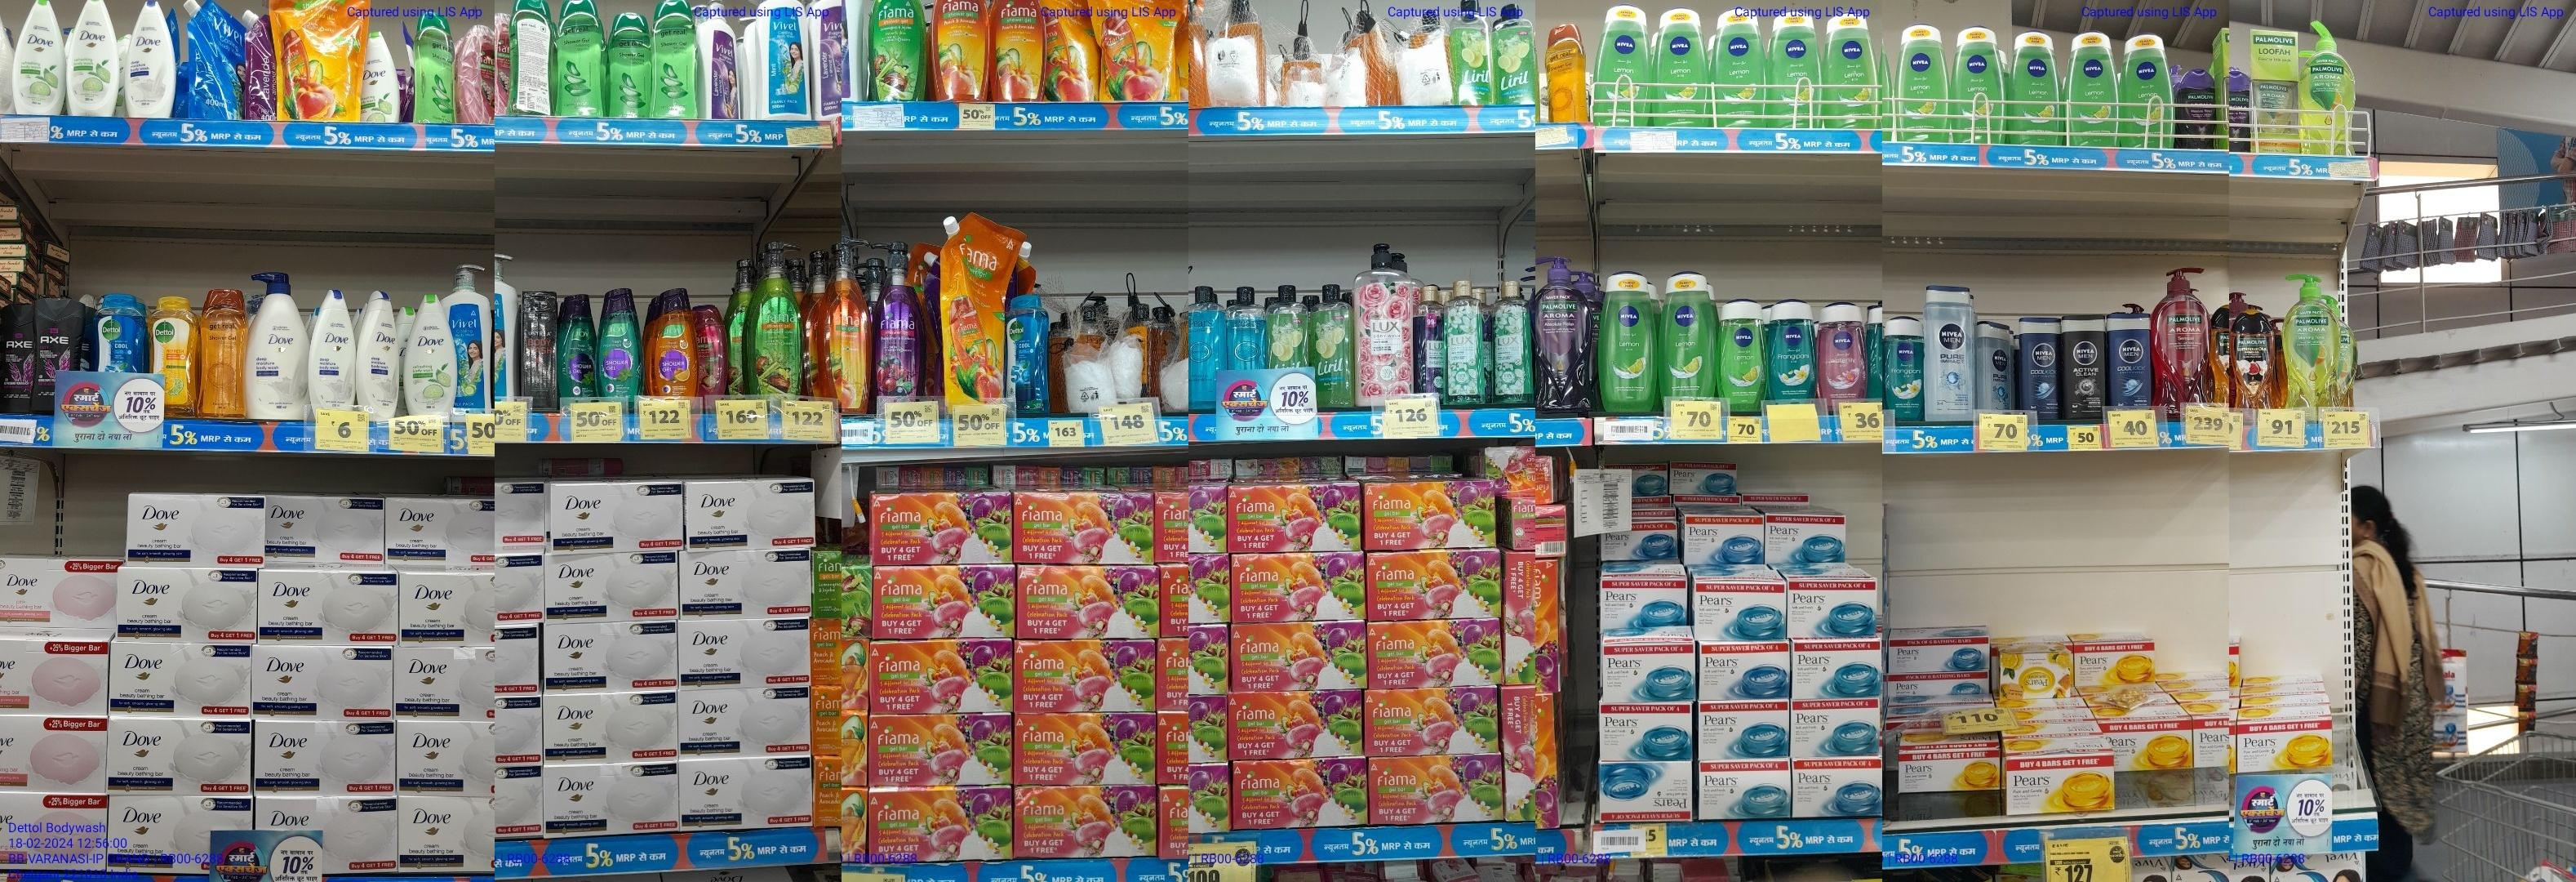Dettol_Bodywash_Cool: (1005, 294, 1050, 412), (92, 287, 146, 373)
Dettol_Bodywash_Refresh: (148, 294, 197, 383)
Dove_Deep_Moisture_Body_Wash_250ML: (126, 0, 176, 115), (309, 284, 353, 404), (358, 289, 398, 409)
Dove_Refreshing_Body_Wash_250ML: (404, 294, 458, 411), (15, 0, 66, 118), (67, 0, 117, 115), (365, 31, 401, 123)
Get_Real_Shower_Gel_Moisturising_Glycerin_300ML: (202, 283, 245, 417), (1546, 26, 1587, 123)
Joy_Shower_Gel_Mandarin_and_Lemongrass_250ML: (652, 286, 700, 396)
Joy_Shower_Gel_Mint_and_Eucalyptus_250ML: (598, 286, 642, 397), (559, 296, 595, 399)
Liril_Lime_and_Tea_Tree_Oil_Body_Wash_250ML: (1318, 283, 1357, 411), (1449, 0, 1495, 107), (1498, 7, 1536, 103), (1265, 286, 1308, 366)
Lux_Body_Wash_Skin_Detox_Freesia_Scent_and_Alove_Vera_245ML: (1444, 281, 1487, 406), (1492, 283, 1533, 406)
Nivea_Shower_Gel_Frangipani_and_Oil_250ML: (1769, 299, 1814, 397), (1884, 314, 1924, 422)
Nivea_Shower_Gel_Lemon_and_Oil_250ML: (1598, 278, 1656, 414), (1659, 273, 1713, 399), (1595, 5, 1653, 122), (1654, 8, 1710, 125), (1896, 25, 1950, 143), (1768, 15, 1822, 128), (2067, 31, 2119, 148), (2123, 33, 2175, 149), (1713, 10, 1766, 125), (1824, 16, 1878, 126), (1952, 30, 2004, 141), (2014, 31, 2063, 146), (1720, 299, 1766, 404)
Nivea_Shower_Gel_Waterlily_and_Oil_250ML: (1817, 302, 1866, 399)
Palmolive_Aroma_Relax_250ML: (2182, 66, 2215, 143)
Palmolive_Luminous_Oils_With_White_Orchid_Shower_Gel_250ML: (2231, 312, 2274, 407)
Pears_Pure_Glycerin_and_Mint_Extracts_Body_Wash_250ML: (1188, 286, 1219, 409), (1227, 286, 1262, 368)
